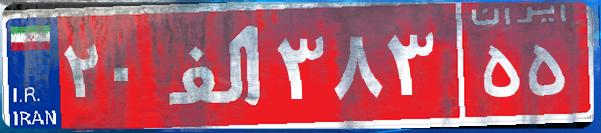0: (110, 28, 158, 105)
2: (57, 26, 110, 107)
3: (385, 28, 445, 110), (273, 28, 330, 110)
5: (475, 38, 525, 113), (525, 38, 570, 115)
8: (330, 28, 385, 110)
الف: (158, 15, 273, 115)
